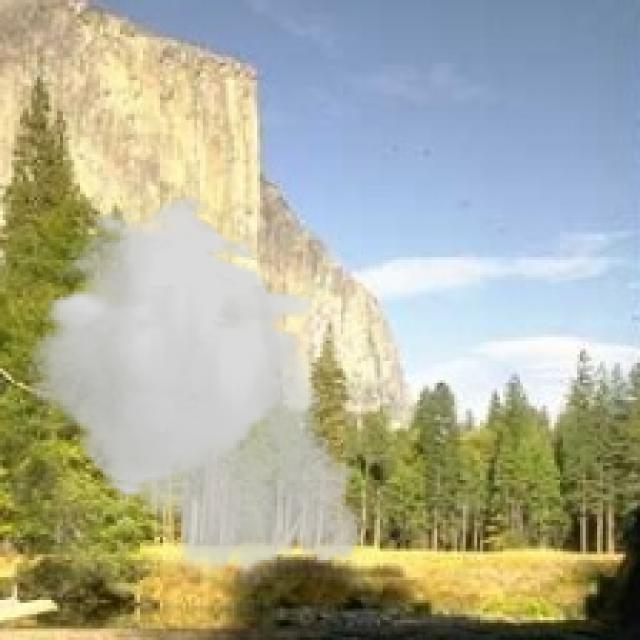Smoke: (29, 194, 378, 589)
